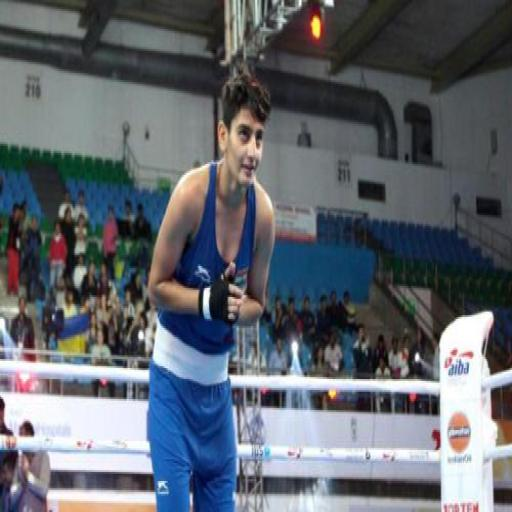boxing: (144, 70, 276, 508)
